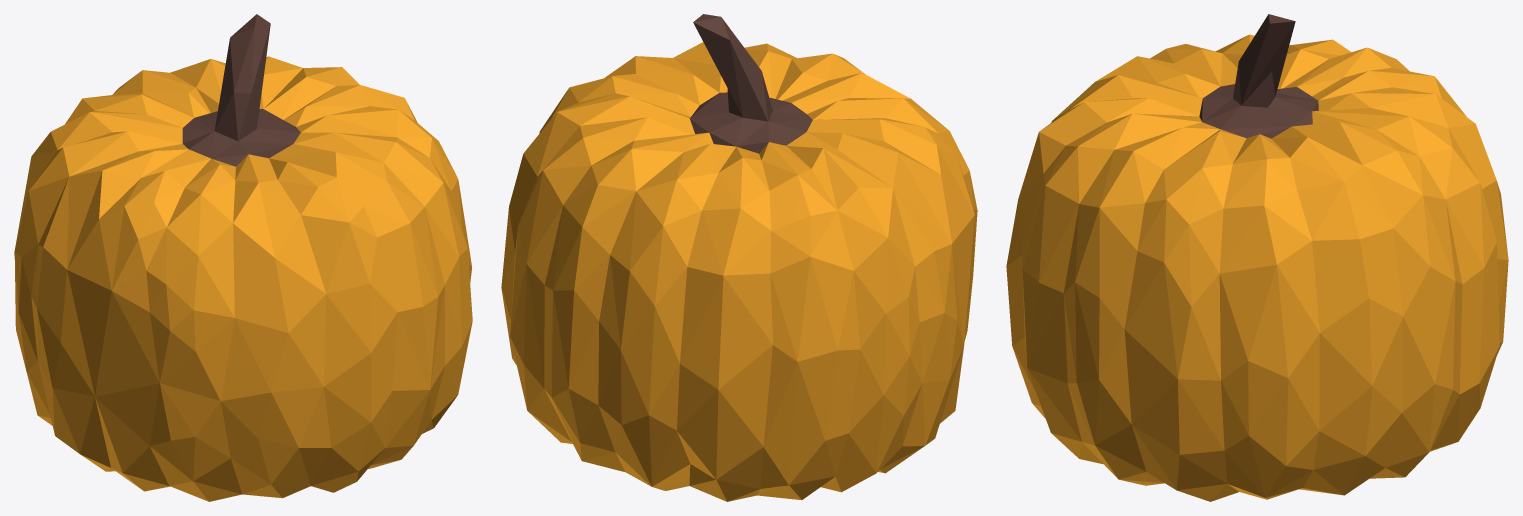
The model's file is fantasy_plant_029.fbx.
The picture shows the model from 3 angles, left to right: view 1: azimuth 30°, elevation 25°; view 2: azimuth 150°, elevation 25°; view 3: azimuth 270°, elevation 25°; orthographic projection. The views are drawn at different scales.
Parts seen in each view (by area): view 1: fantasy_plant.029; view 2: fantasy_plant.029; view 3: fantasy_plant.029.
Part boxes in pixels (bbox=[...]): fantasy_plant.029: bbox=[14, 14, 472, 501]; fantasy_plant.029: bbox=[501, 14, 977, 501]; fantasy_plant.029: bbox=[1006, 14, 1508, 501].
Bounding box in the file's own units: 151 × 147 × 152.
1 material, 1 textured.
